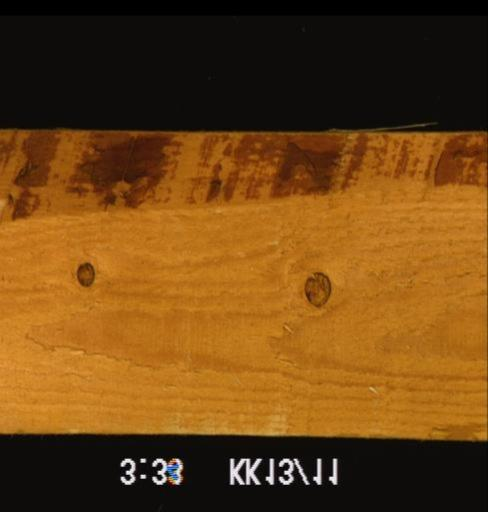dry_knot: (302, 269, 331, 307), (74, 261, 94, 288)
wave: (0, 129, 486, 237), (428, 418, 486, 437)
